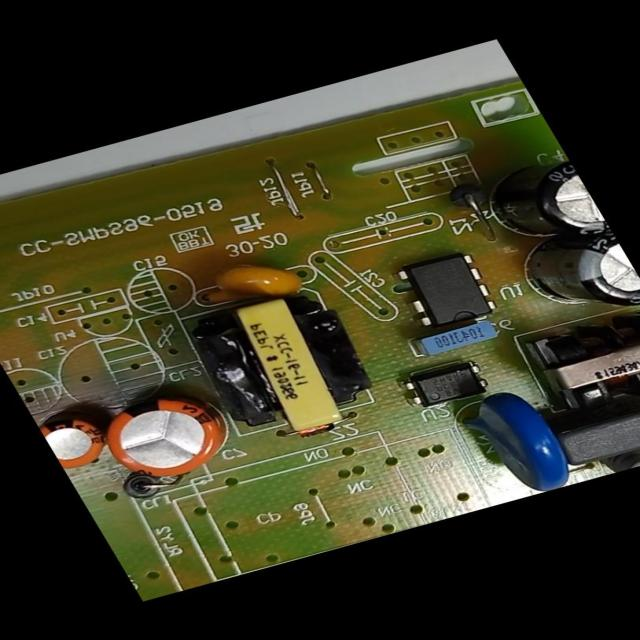Cap1: (73, 371, 259, 498)
Cap2: (30, 396, 134, 480)
Cap3: (494, 219, 639, 334)
Cap4: (446, 146, 615, 268)
MOSFET: (384, 244, 511, 340)
Mov: (450, 379, 596, 501)
Resistor: (598, 444, 640, 475)
Transformer: (169, 282, 396, 456), (514, 308, 640, 422)
